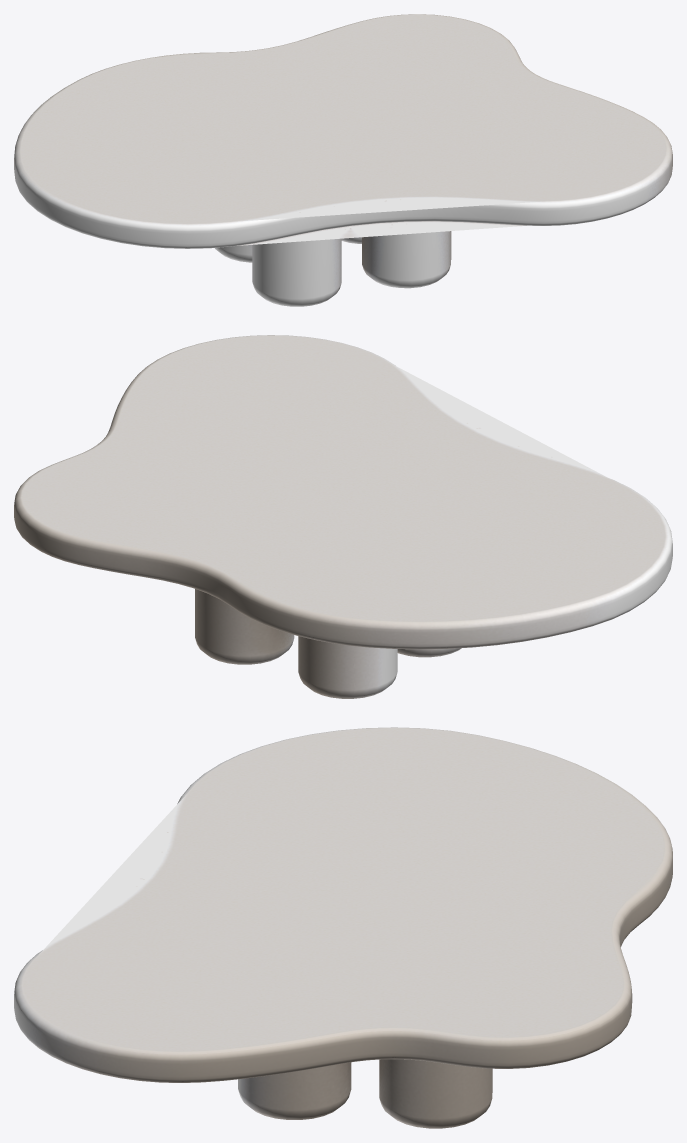
File: coffee table.fbx
3 views of the same model, one above another, from view 1: azimuth 30°, elevation 25°; view 2: azimuth 150°, elevation 25°; view 3: azimuth 270°, elevation 25° (orthographic). The views are drawn at different scales.
Parts seen in each view (by area): view 1: kumo; view 2: kumo; view 3: kumo.
Boxes of the visible parts, bbox=[...] form: kumo: bbox=[14, 14, 672, 306]; kumo: bbox=[14, 335, 672, 698]; kumo: bbox=[14, 727, 672, 1128].
Bounding box in the file's own units: 1.14 × 0.2781 × 0.9615.
1 material, 1 textured.
